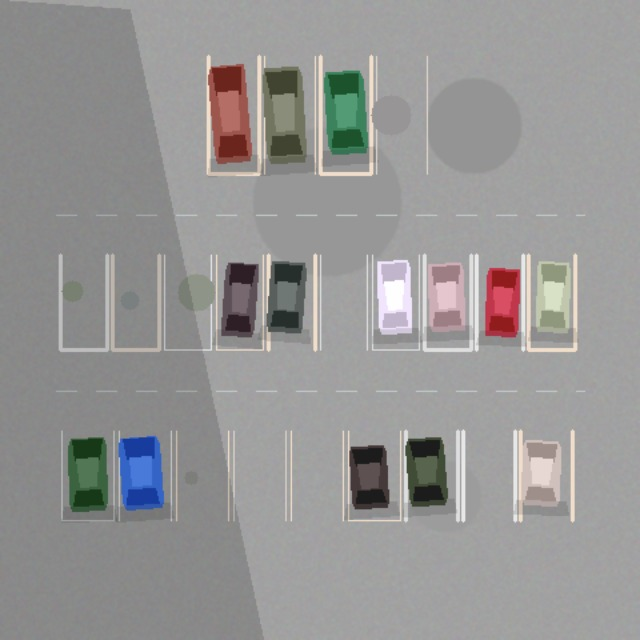space-empty: (376, 56, 427, 173), (176, 431, 228, 520), (233, 431, 285, 520), (291, 431, 343, 520), (463, 431, 515, 520), (60, 255, 107, 349), (112, 255, 159, 349), (164, 255, 211, 349), (320, 255, 367, 349)
space-occupied: (208, 56, 259, 173), (264, 56, 315, 173), (320, 56, 371, 173), (61, 431, 113, 520), (119, 431, 171, 520), (348, 431, 400, 520), (405, 431, 457, 520), (520, 431, 572, 520), (216, 255, 263, 349), (268, 255, 315, 349), (372, 255, 419, 349), (424, 255, 471, 349), (476, 255, 523, 349), (528, 255, 575, 349)
